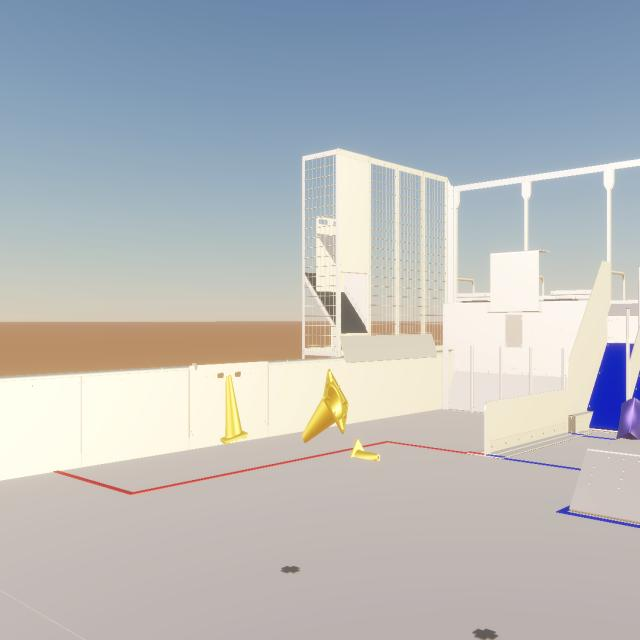frc_cone: (302, 369, 348, 443), (220, 375, 248, 445)
frc_cube: (616, 398, 640, 440)
